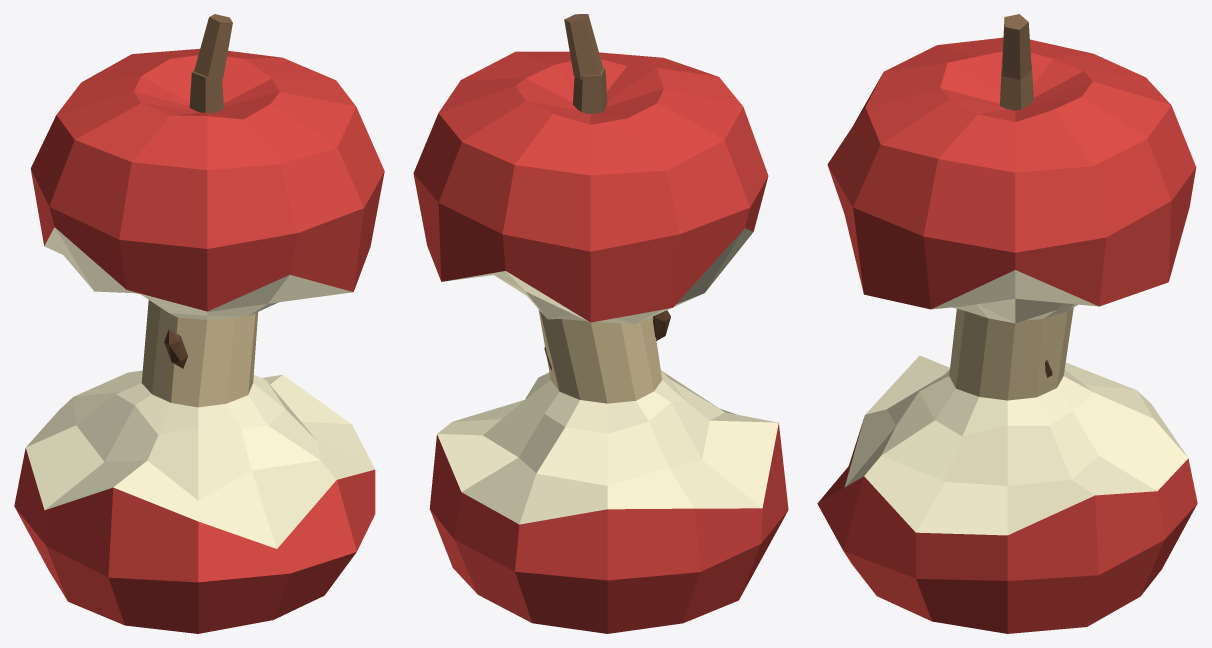
Rendered from Manzana.fbx.
3 views of the same model, side by side, from view 1: azimuth 30°, elevation 25°; view 2: azimuth 150°, elevation 25°; view 3: azimuth 270°, elevation 25° (orthographic). The views are drawn at different scales.
Visible parts, largest first — view 1: Manzana_Comida; view 2: Manzana_Comida; view 3: Manzana_Comida.
Boxes of the visible parts, x1=… form: Manzana_Comida: x1=14, y1=14, x2=384, y2=633; Manzana_Comida: x1=413, y1=14, x2=788, y2=633; Manzana_Comida: x1=817, y1=14, x2=1197, y2=633.
Size of the model in its own units: 7.57 by 12.65 by 7.39.
